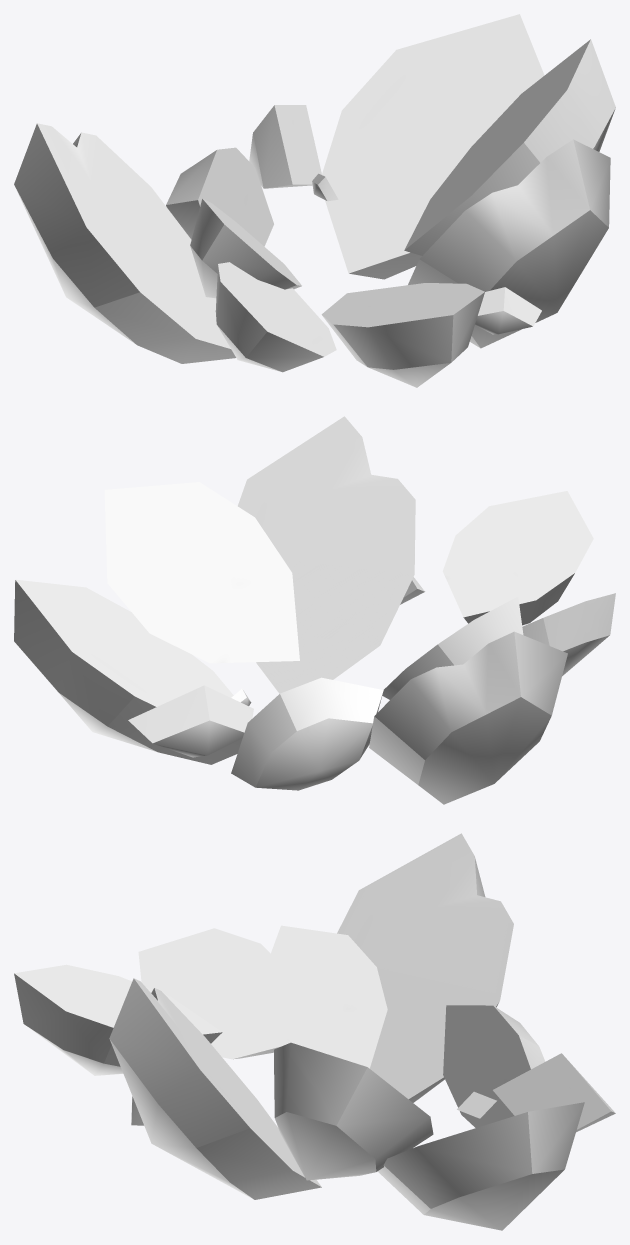
Rendered from Crack_1.fbx.
3 renders of one model, top to bottom at view 1: azimuth 30°, elevation 25°; view 2: azimuth 150°, elevation 25°; view 3: azimuth 270°, elevation 25°, orthographic. The views are drawn at different scales.
Visible parts, largest first — view 1: Sample_Mesh_Fake_Mesh_Lighting; view 2: Sample_Mesh_Fake_Mesh_Lighting; view 3: Sample_Mesh_Fake_Mesh_Lighting.
Part boxes in pixels (left/top/right/bottom): Sample_Mesh_Fake_Mesh_Lighting: left=14, top=14, right=615, bottom=387; Sample_Mesh_Fake_Mesh_Lighting: left=14, top=416, right=615, bottom=804; Sample_Mesh_Fake_Mesh_Lighting: left=14, top=833, right=615, bottom=1230.
Size of the model in its own units: 2.57 by 1.23 by 2.66.
1 material, 1 textured.
